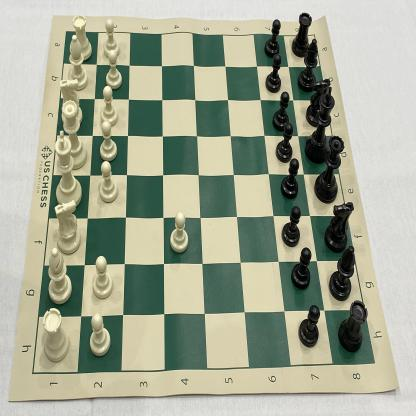black-bishop: (329, 243, 356, 301), (298, 36, 319, 93)
black-king: (305, 86, 335, 165)
black-knight: (325, 199, 354, 251), (306, 78, 332, 127)
black-pawn: (297, 304, 321, 350), (270, 122, 294, 164), (290, 246, 312, 291), (280, 205, 302, 248), (280, 158, 300, 200), (271, 91, 291, 133), (262, 54, 282, 95), (263, 16, 280, 58)
black-queen: (314, 133, 344, 203)
black-rook: (337, 299, 369, 355), (291, 11, 313, 59)
white-bishop: (44, 246, 72, 306), (65, 31, 89, 91)
white-king: (51, 129, 83, 210)
white-knight: (49, 198, 82, 255), (58, 77, 83, 128)
white-pawn: (89, 252, 114, 301), (87, 311, 112, 357), (96, 159, 120, 205), (168, 208, 190, 255), (97, 120, 119, 163), (98, 85, 119, 128), (104, 49, 124, 92), (101, 17, 121, 59)
white-queen: (59, 100, 88, 172)
white-rook: (40, 307, 72, 365), (69, 14, 93, 63)
